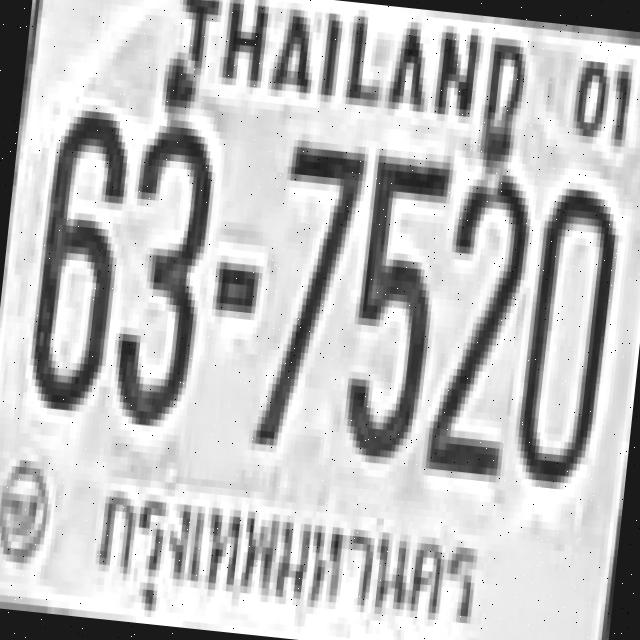0: (510, 179, 620, 485)
2: (426, 160, 532, 472)
3: (108, 109, 218, 422)
5: (336, 147, 446, 460)
6: (22, 100, 128, 406)
7: (252, 132, 366, 444)
Bangkok: (78, 467, 489, 640)
